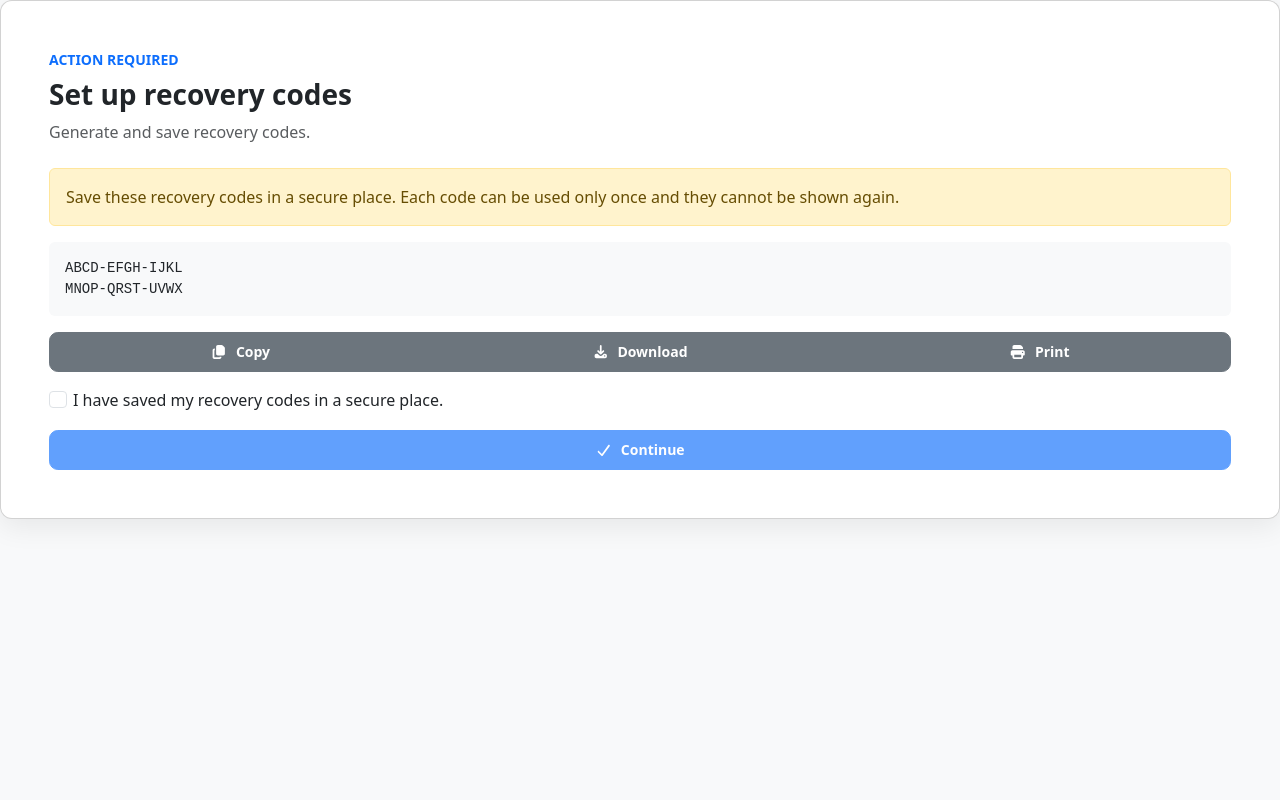
Test case: MFA authentication pages › requires saving recovery codes before submitting the required action
The width and height of the screenshot is (1280, 800).
Expected: the text "ABCD-EFGH-IJKL" is shown, 65,260 -> 183,276
Expected: the button "Continue" is disabled, 49,430 -> 1231,470
Click the checkbox labelled "I have saved my recovery codes in a secure place.": (58, 400) 49,391 -> 67,408
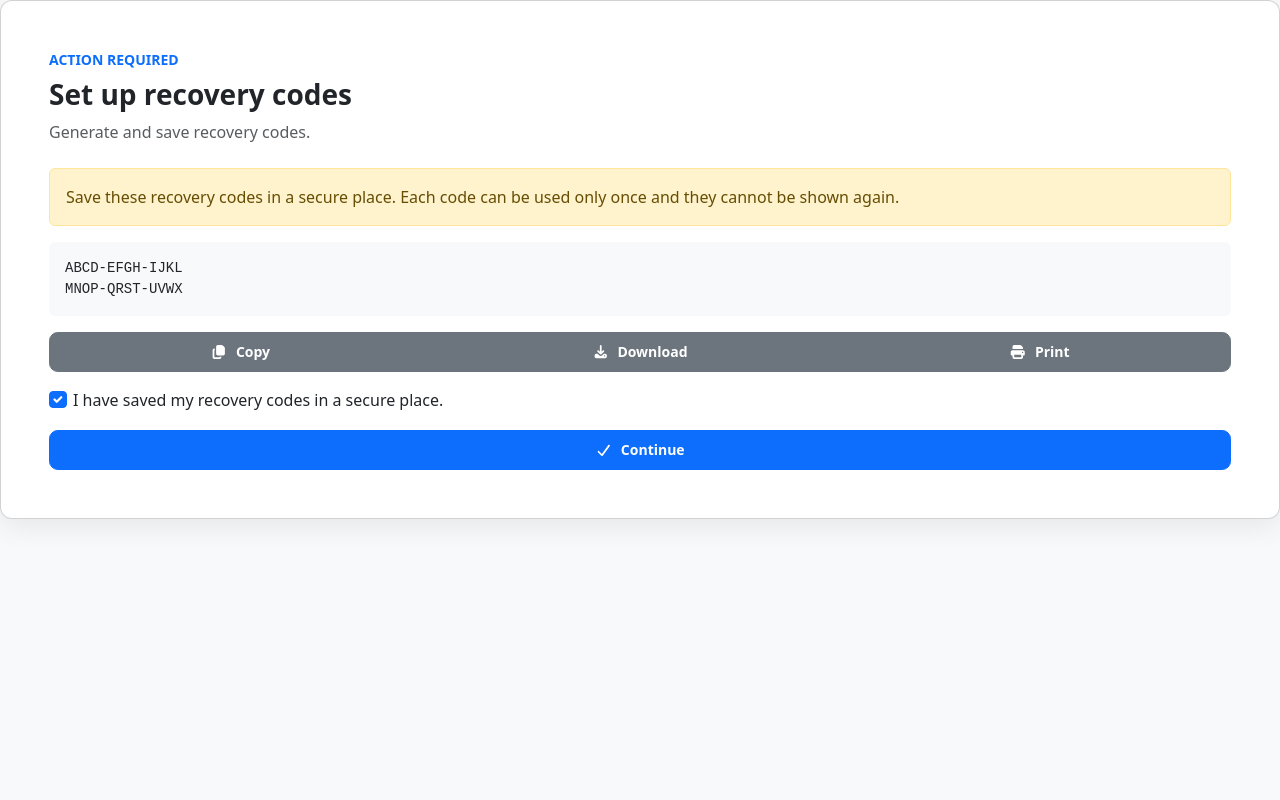
Expected: the button "Continue" is enabled
Click the button "Continue": (640, 450) 49,430 -> 1231,470
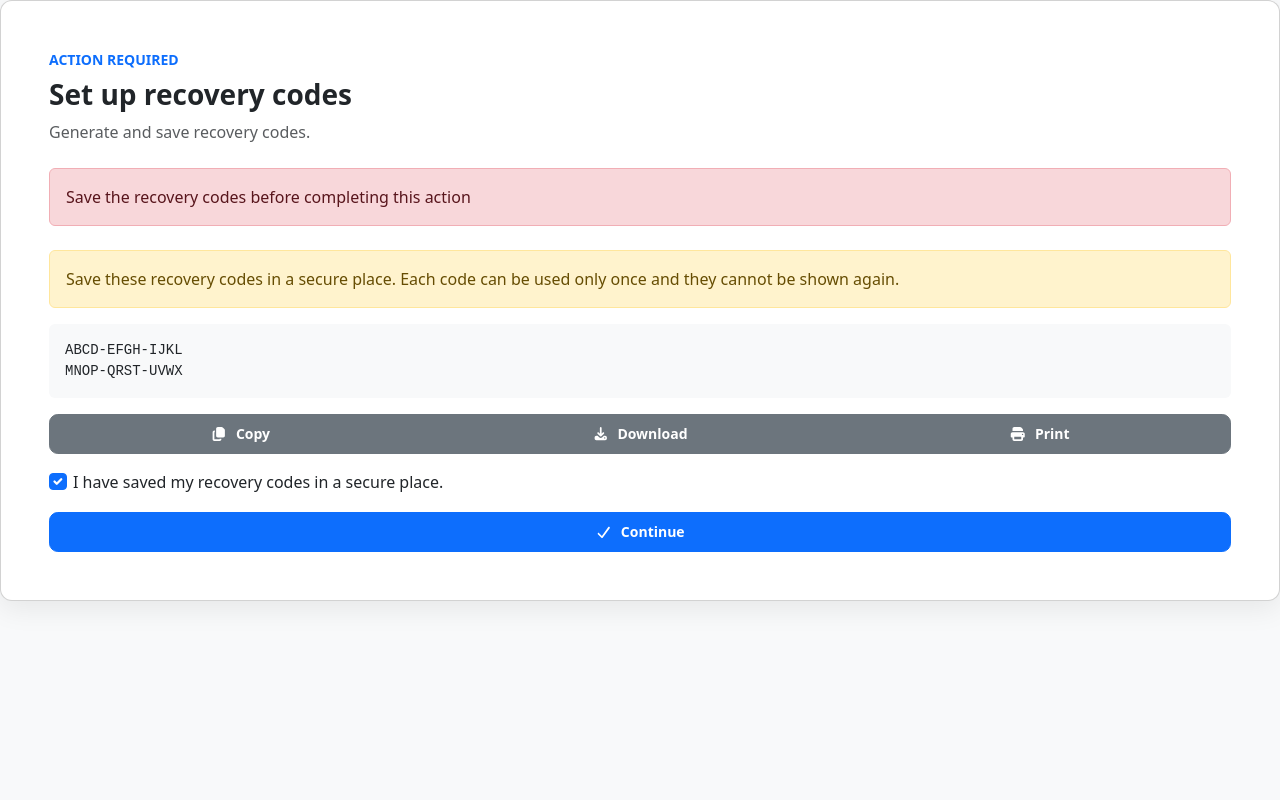
Expected: the text "Save the recovery codes before completing this action" is shown, 49,168 -> 1231,226
